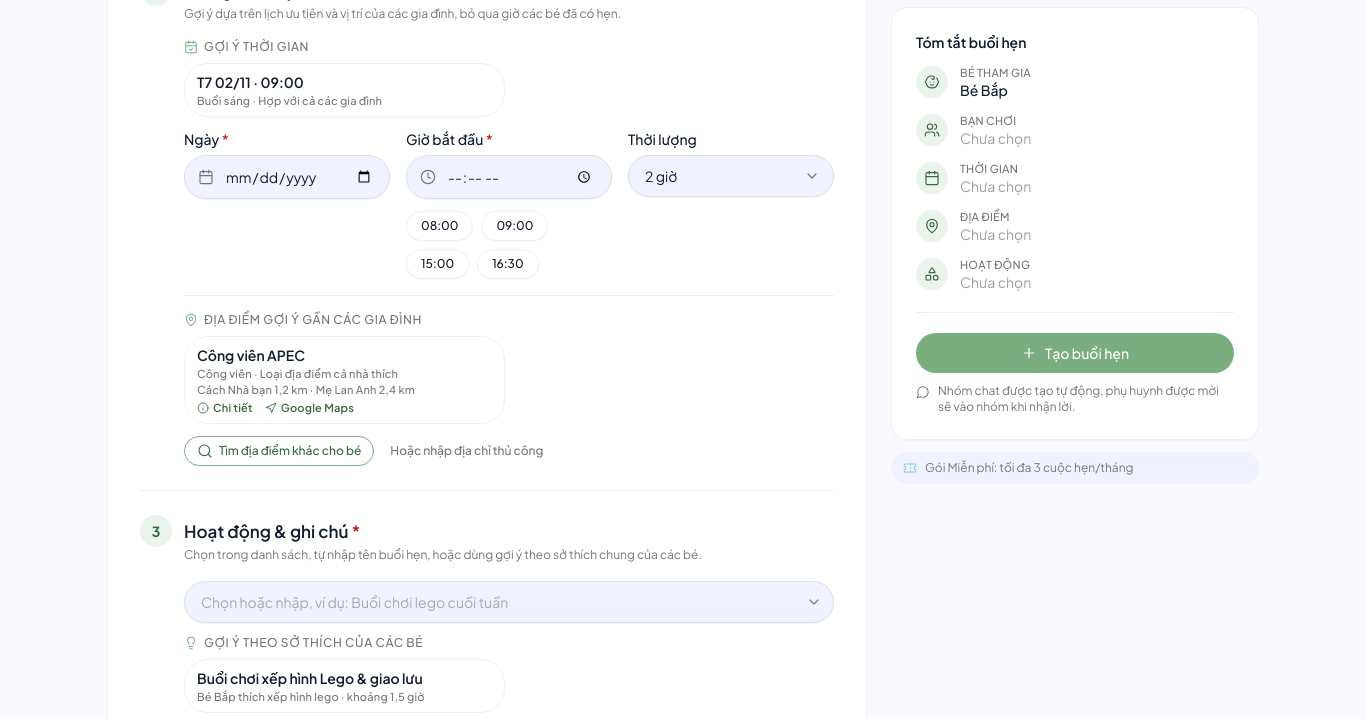
Test: CreatePlaydatePage Component › fills a suggested place from the places API, with a Google Maps link
(page scrolled)
Check: the text "Cách Nhà bạn 1,2 km · Mẹ Lan Anh 2,4 km" is shown, box [197,383,415,397]
Click the button with aria-label "chọn công viên apec" at [344, 367], box [185,337,504,397]
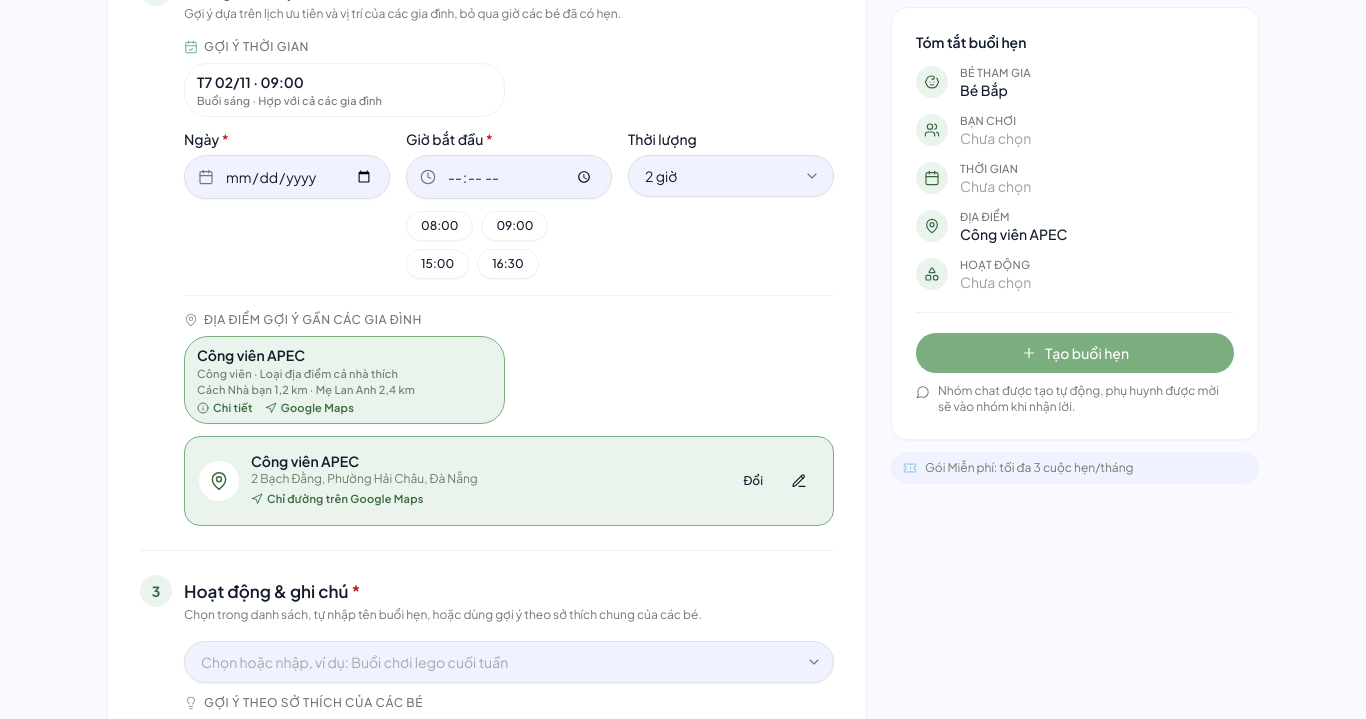
Check: the text "2 Bạch Đằng, Phường Hải Châu, Đà Nẵng" is shown, box [251,471,478,486]
